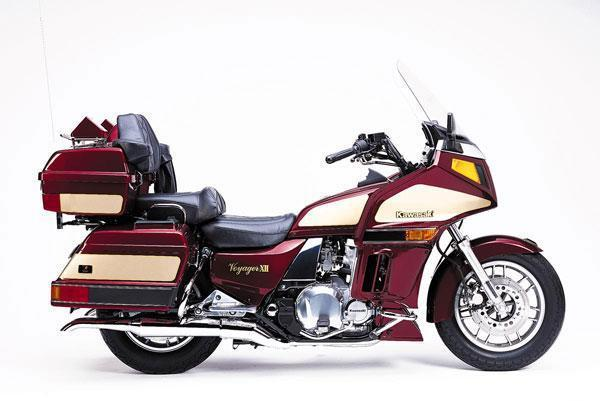motorcycle: (24, 71, 598, 383)
